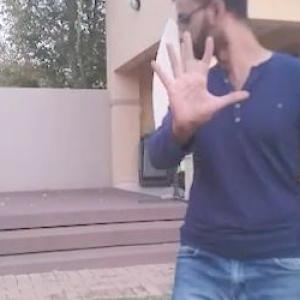follow_hand: (144, 26, 250, 134)
